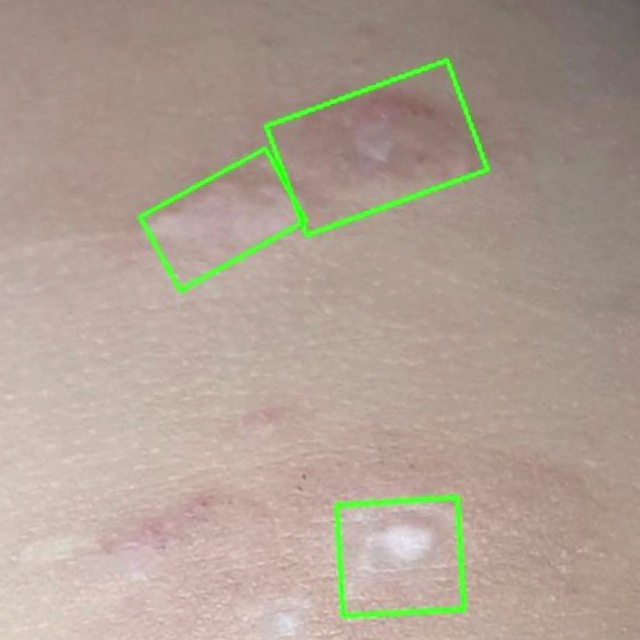Eczema: (266, 59, 487, 235), (140, 147, 305, 289), (336, 497, 463, 616)
